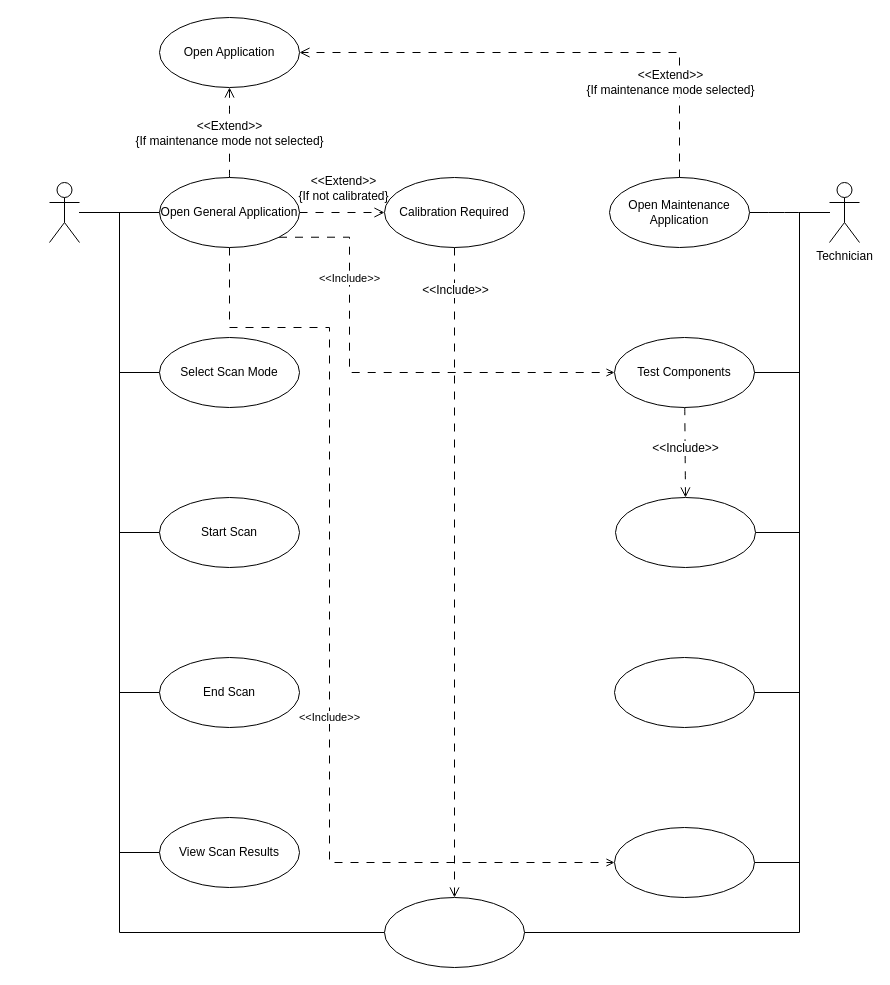
The diagram is 890 pixels wide and 985 high, and some of its shapes have lost their labels. The shapes that lost their labels are listed below. From the top down, each one's centre as x and y in pixels, then its label:
At point 64,212: "Security Personel".
At point 685,532: "Test Component".
At point 684,692: "Calibration Scan".
At point 684,862: "Reset System".
At point 454,932: "Close Application".
